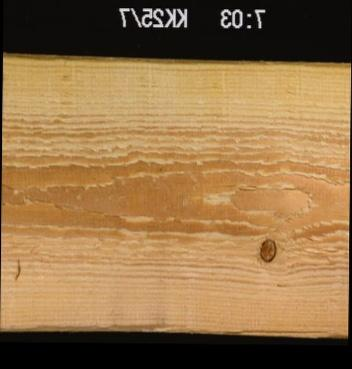wave: (126, 52, 349, 72), (2, 315, 174, 335)
